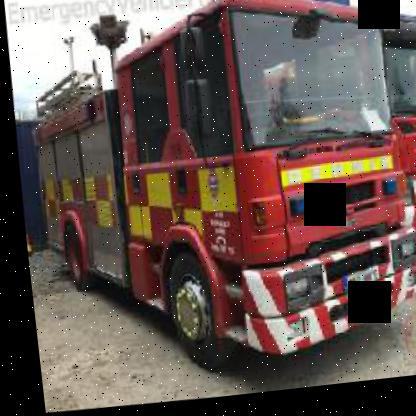emergency: (17, 0, 415, 395)
